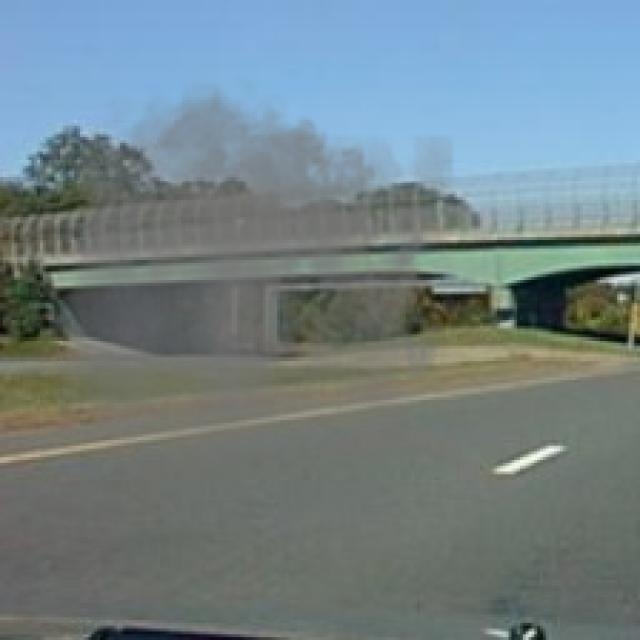smoke: (52, 69, 454, 474)
